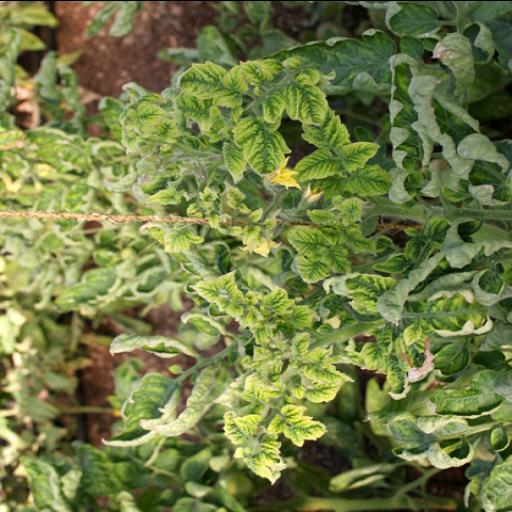Yellow Leaf Curl Virus: (97, 370, 182, 446), (220, 404, 284, 478), (177, 55, 249, 116), (228, 107, 290, 175), (196, 259, 256, 324), (272, 358, 356, 400), (418, 290, 492, 336), (280, 76, 334, 132), (266, 399, 328, 447), (297, 234, 351, 282), (282, 146, 353, 178), (335, 162, 396, 193), (280, 225, 338, 257), (343, 270, 389, 308), (341, 138, 391, 168), (162, 220, 202, 254), (384, 358, 410, 401), (254, 290, 296, 316), (132, 99, 164, 129)
